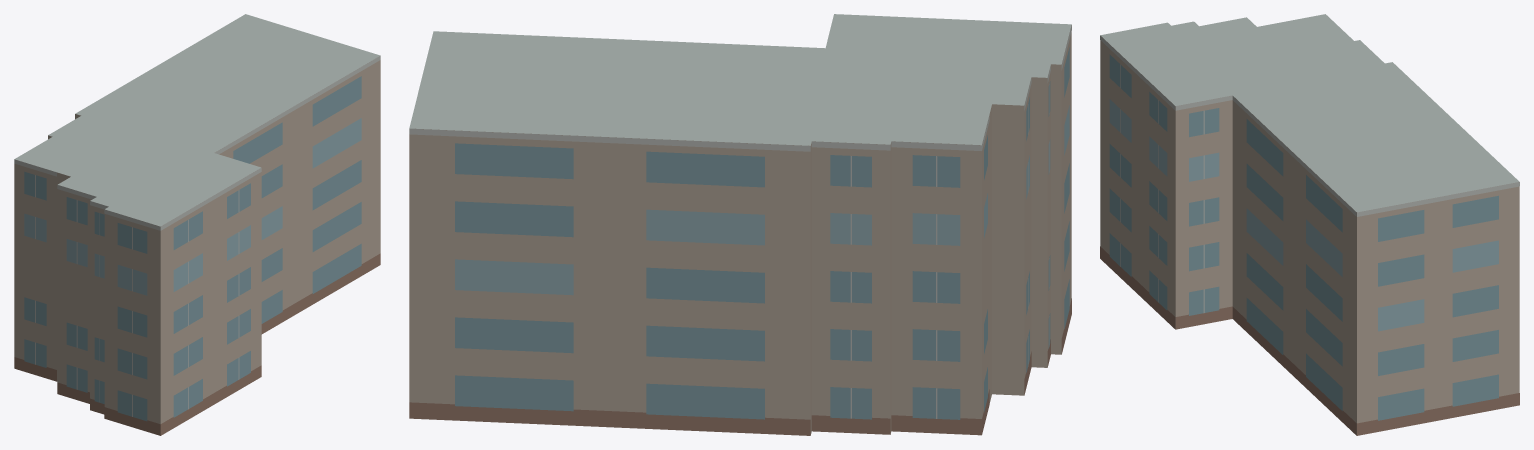
Rendered from survey-upis-33011961.glb.
The picture shows the model from 3 angles, left to right: view 1: azimuth 30°, elevation 25°; view 2: azimuth 150°, elevation 25°; view 3: azimuth 270°, elevation 25°; orthographic projection. The views are drawn at different scales.
Visible parts, largest first — view 1: survey-upis-33011961.tmp; view 2: survey-upis-33011961.tmp; view 3: survey-upis-33011961.tmp.
Boxes of the visible parts, left/top/right/bottom form: survey-upis-33011961.tmp: left=14, top=14, right=380, bottom=435; survey-upis-33011961.tmp: left=409, top=14, right=1071, bottom=435; survey-upis-33011961.tmp: left=1100, top=14, right=1519, bottom=435.
Size of the model in its own units: 22.59 by 11.85 by 20.18.
